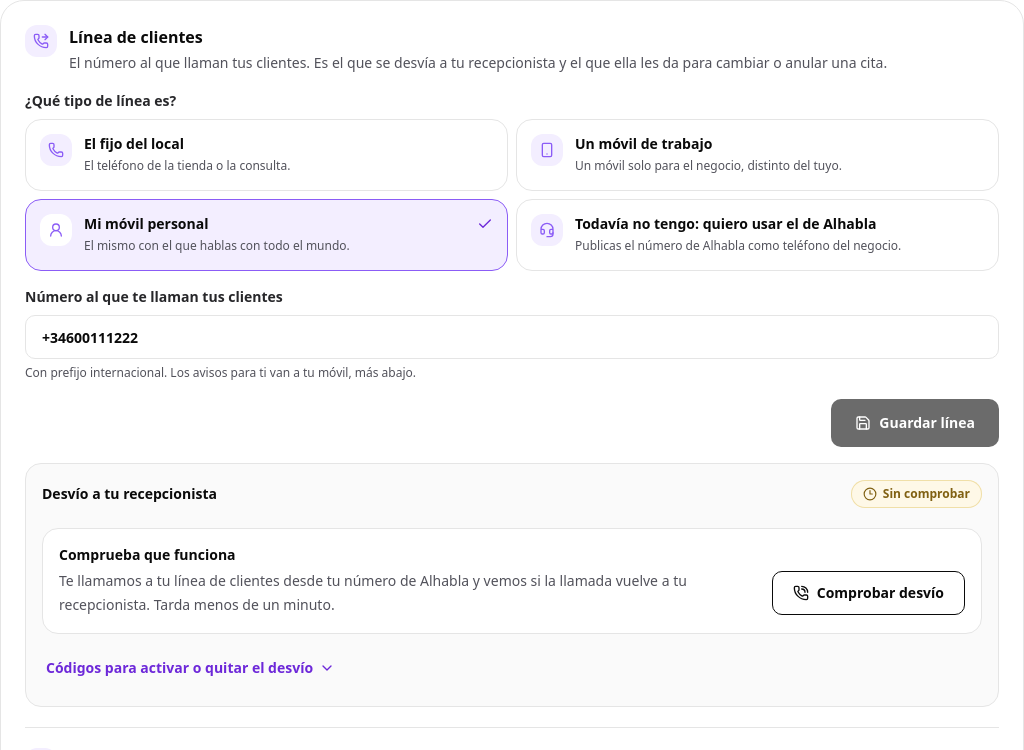
Test: AjustesTelefono › Línea de clientes › cambiar la línea con «es el mismo móvil» marcado apaga esa casilla y deja los avisos donde estaban
The width and height of the screenshot is (1024, 750).
Replace the text in the field labelled "Número al que te llaman tus clientes" with "+34600999888" at (512, 337), box [25, 315, 999, 359]
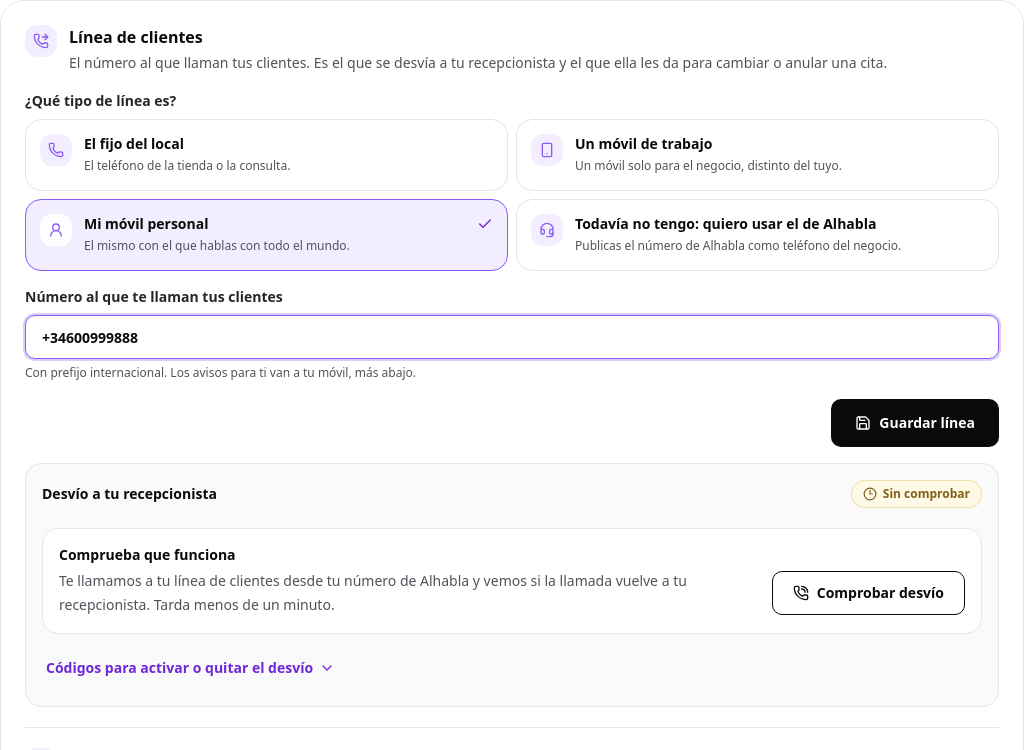
Click the button "Guardar línea" at (915, 423), box [831, 399, 999, 447]
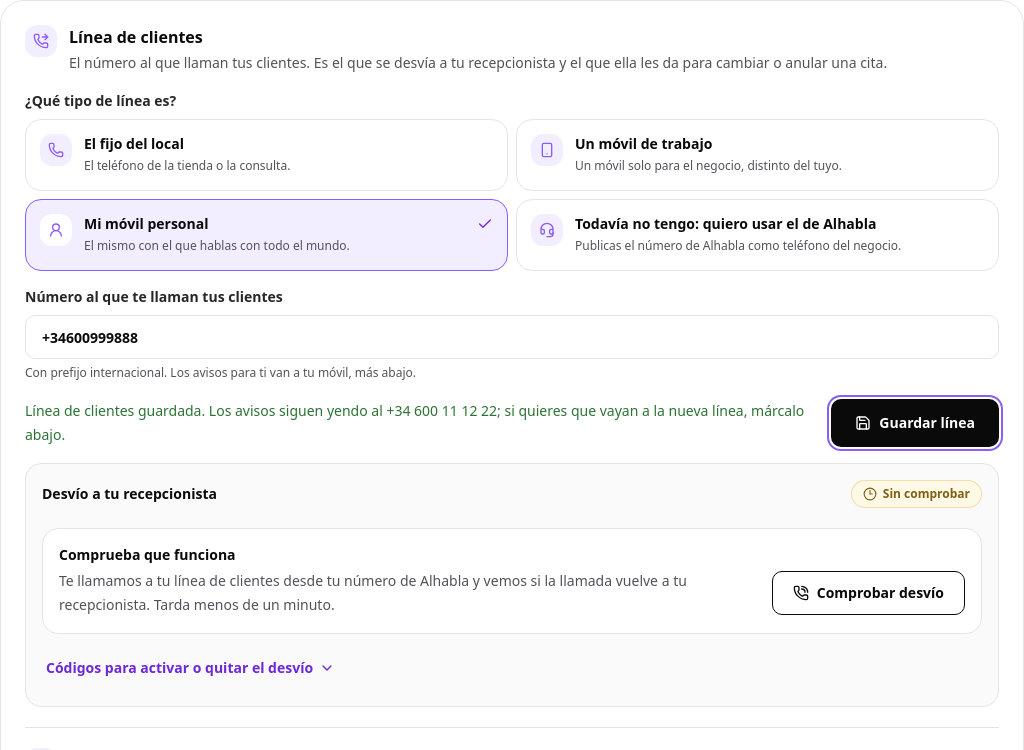
expect the text "Los avisos siguen yendo al +34 600 11 12 22" is shown: met, box [25, 401, 804, 444]
